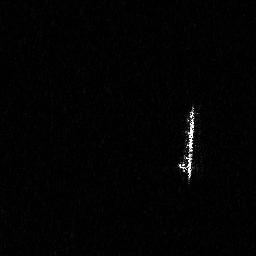ship: (177, 104, 197, 189)
